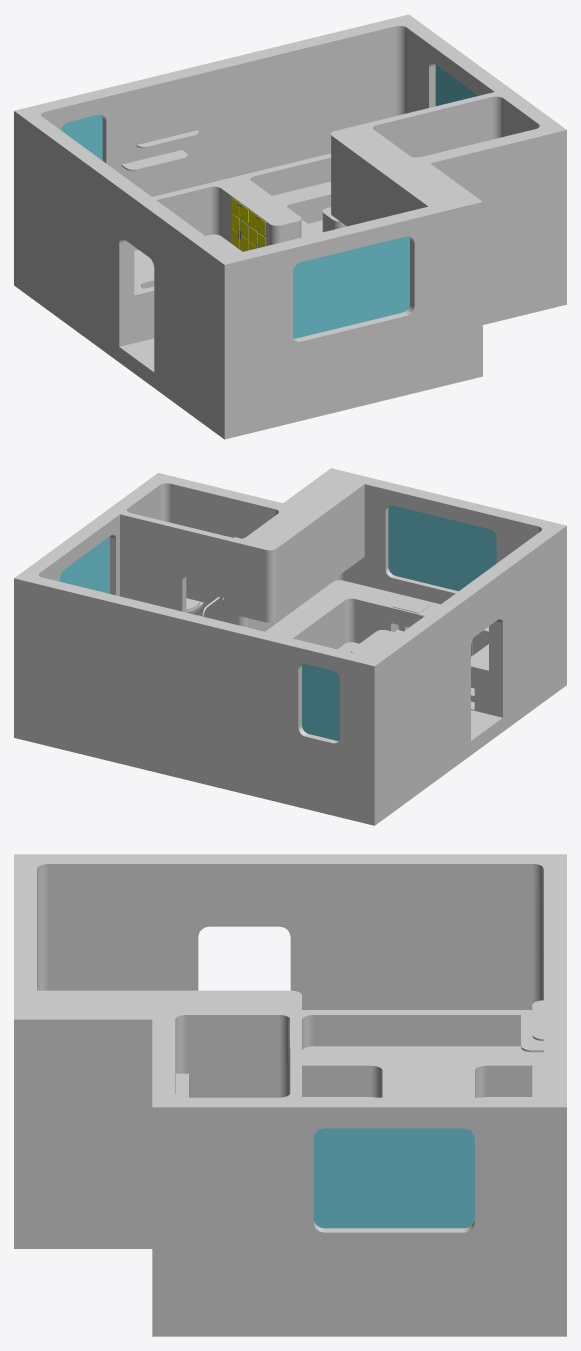
The model's file is memory typeB OptionC.glb.
3 views of the same model, one above another, from view 1: azimuth 30°, elevation 25°; view 2: azimuth 150°, elevation 25°; view 3: azimuth 270°, elevation 25° (orthographic). The views are drawn at different scales.
Parts seen in each view (by area): view 1: 厨房墙, 卧室墙, 客厅墙, 厕所墙, Glass, 厨房橱柜, 客厅岛台, 卧室床15MM 软包边-皮质, 客厅沙发15MM 软包边-皮质, 柜门，区别于整体的柜子, 客厅沙发（软）, 卧室架子 (+1 smaller); view 2: 卧室墙, 客厅墙, 厨房墙, 厨房橱柜, 厕所墙, Glass, 厨房柜门; view 3: 厨房墙, 客厅墙, 厕所墙, 卧室墙, Glass, 卧室床（软）, 卧室床15MM 软包边-皮质, 厨房橱柜, 卧室床（硬）, 卧室架子.
Boxes of the visible parts, x1,y1,x2,y2 form: 厨房墙: (115, 163, 482, 439); 卧室墙: (14, 66, 233, 358); 客厅墙: (197, 14, 509, 253); 厕所墙: (361, 88, 566, 324); Glass: (61, 65, 477, 338); 厨房橱柜: (331, 124, 455, 226); 客厅岛台: (209, 176, 301, 250); 卧室床15MM 软包边-皮质: (134, 184, 209, 342); 客厅沙发15MM 软包边-皮质: (205, 153, 330, 195); 柜门，区别于整体的柜子: (231, 198, 265, 251); 客厅沙发（软）: (272, 181, 330, 237); 卧室架子: (121, 130, 198, 170); 卧室墙: (208, 595, 466, 825); 客厅墙: (14, 511, 215, 784); 厨房墙: (283, 468, 566, 757); 厨房橱柜: (238, 478, 488, 714); 厕所墙: (106, 473, 296, 631); Glass: (60, 505, 496, 740); 厨房柜门: (351, 615, 472, 656); 厨房墙: (14, 854, 301, 1248); 客厅墙: (302, 971, 566, 1336); 厕所墙: (152, 1010, 301, 1336); 卧室墙: (302, 854, 566, 1097); Glass: (313, 1128, 474, 1228); 卧室床（软）: (302, 1046, 532, 1097); 卧室床15MM 软包边-皮质: (302, 1010, 543, 1097); 厨房橱柜: (37, 990, 301, 1013); 卧室床（硬）: (302, 1076, 532, 1097); 卧室架子: (521, 1000, 543, 1052).
Bounding box in the file's own units: 7.8 × 3.3 × 7.2.
